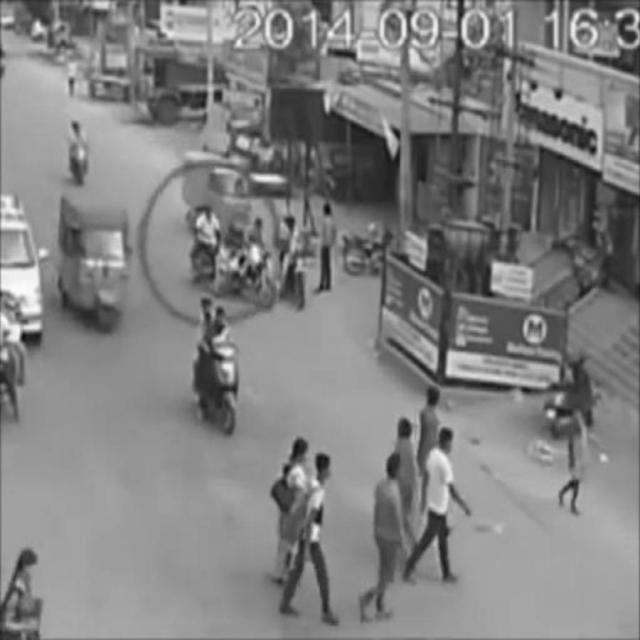accident: (187, 198, 278, 309)
person: (364, 452, 410, 622), (289, 454, 335, 624), (421, 429, 463, 585)
vehicle: (55, 193, 127, 330), (195, 292, 243, 433), (282, 215, 310, 307), (65, 122, 93, 188)
